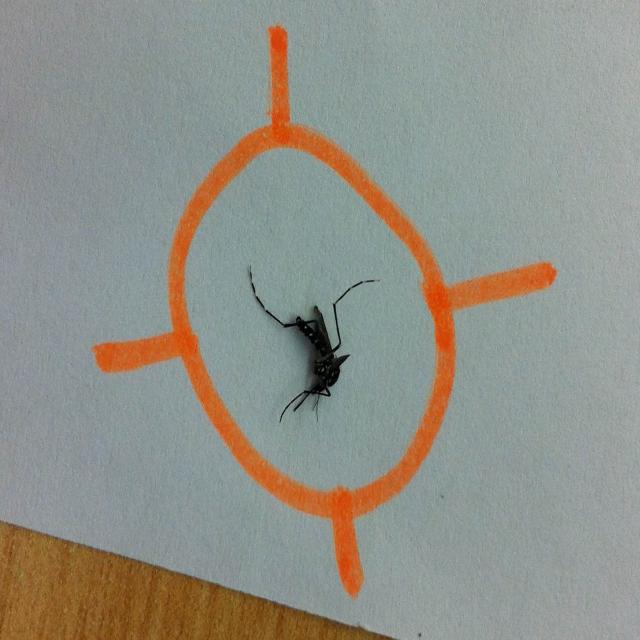albopictus: (241, 250, 382, 430)
